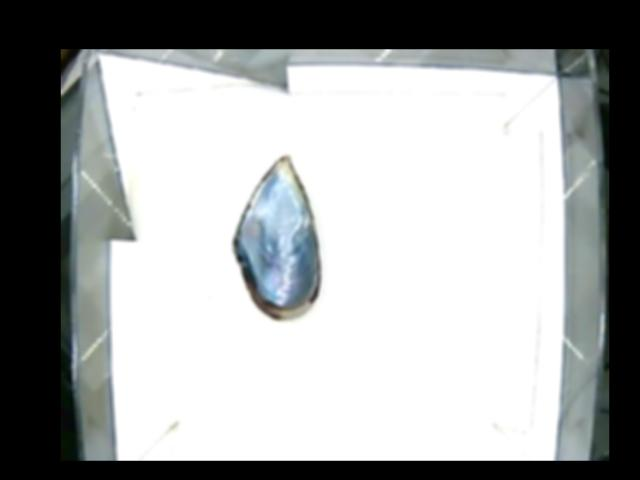Shell: (232, 152, 321, 321)
